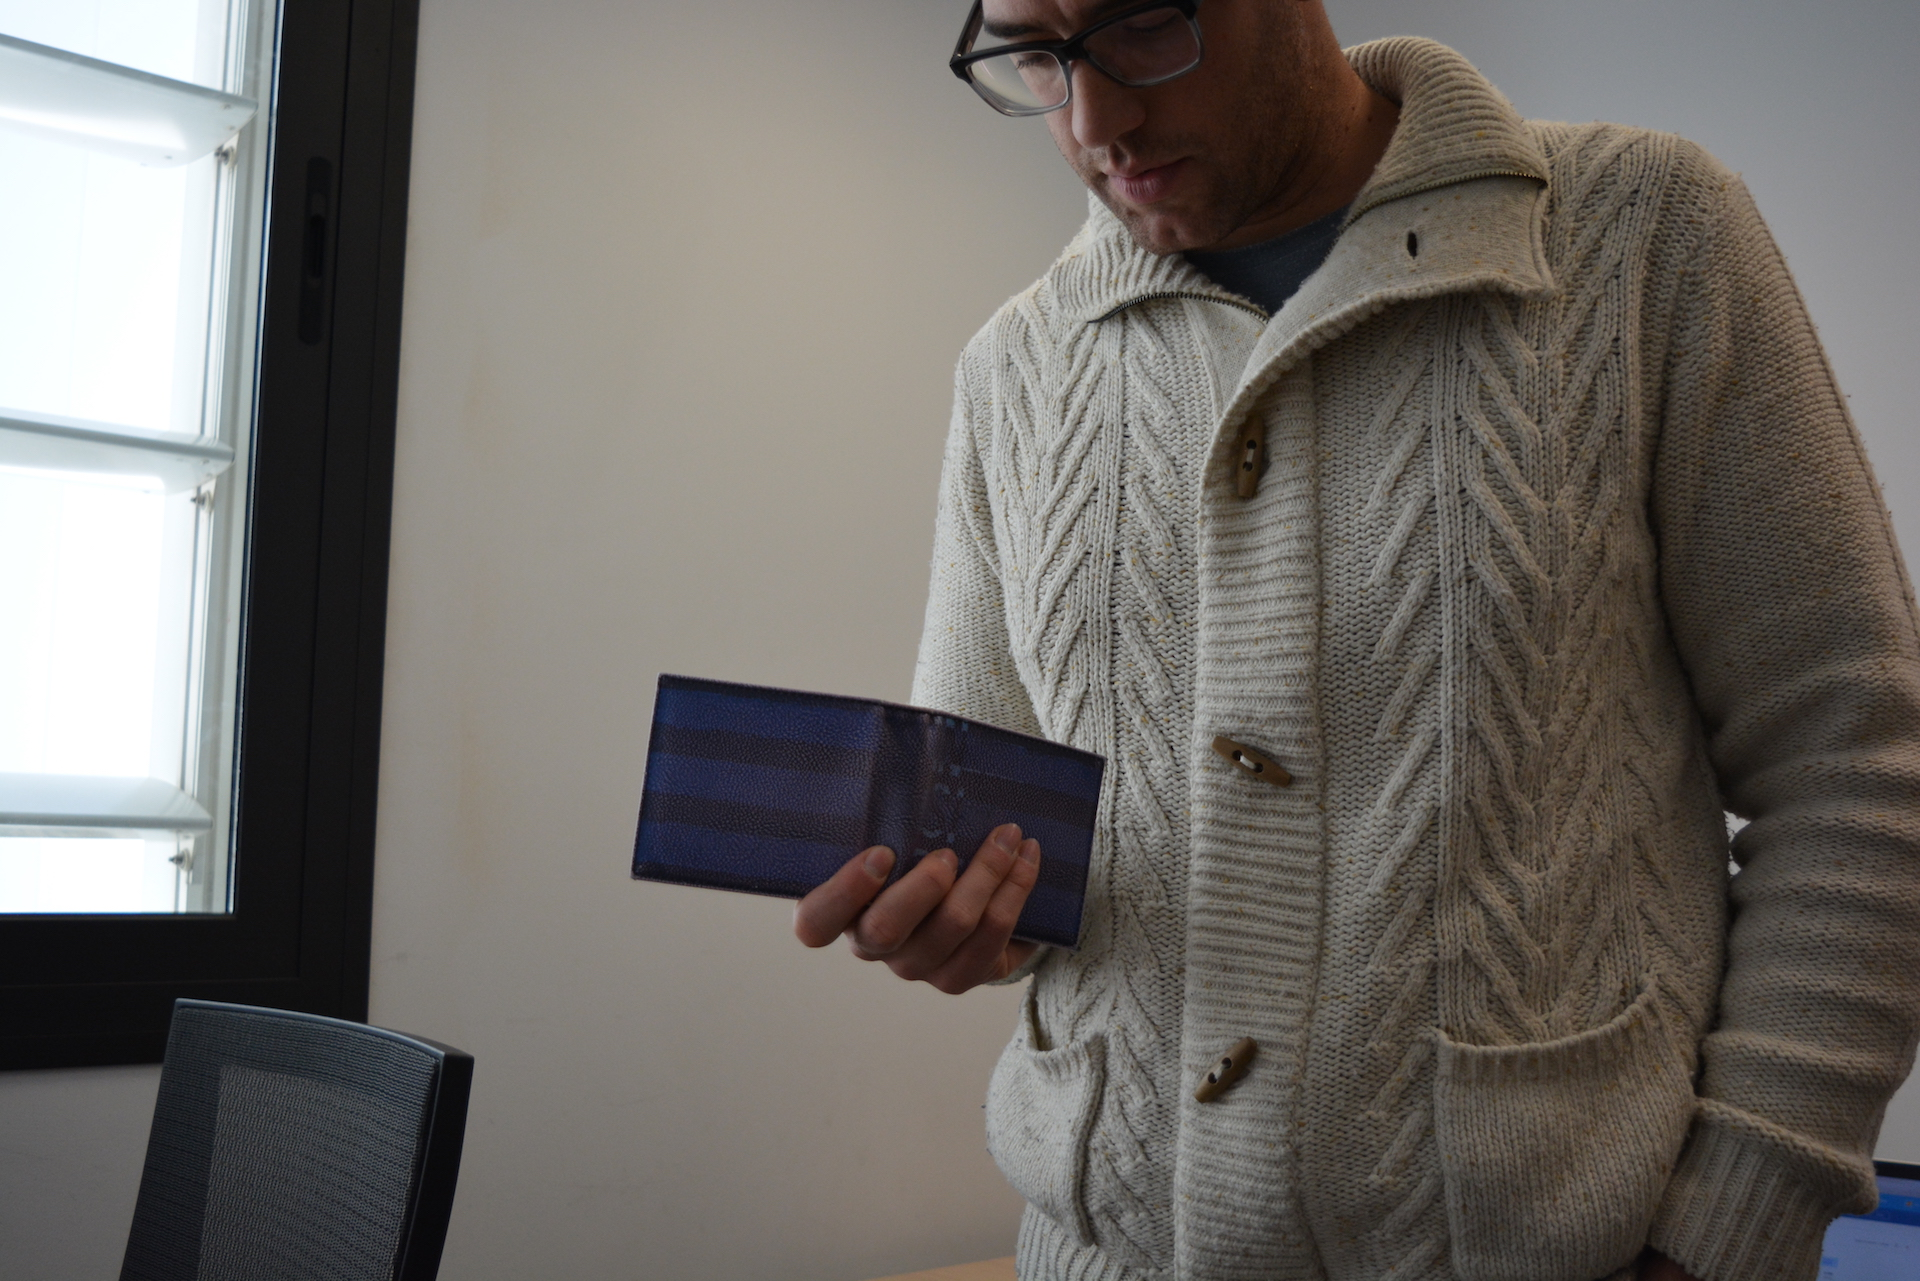monedero: (628, 668, 1112, 954)
